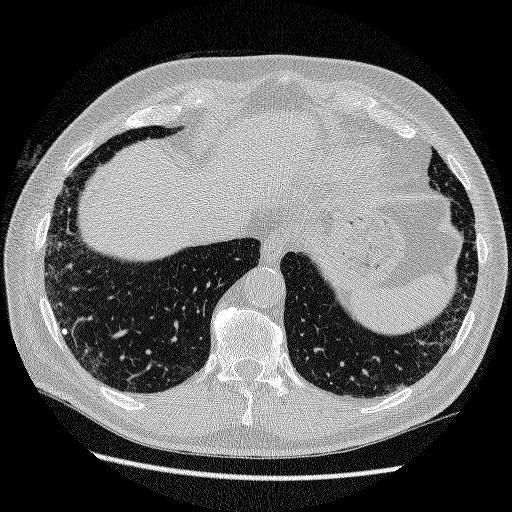nodule: (59, 326, 70, 337)
